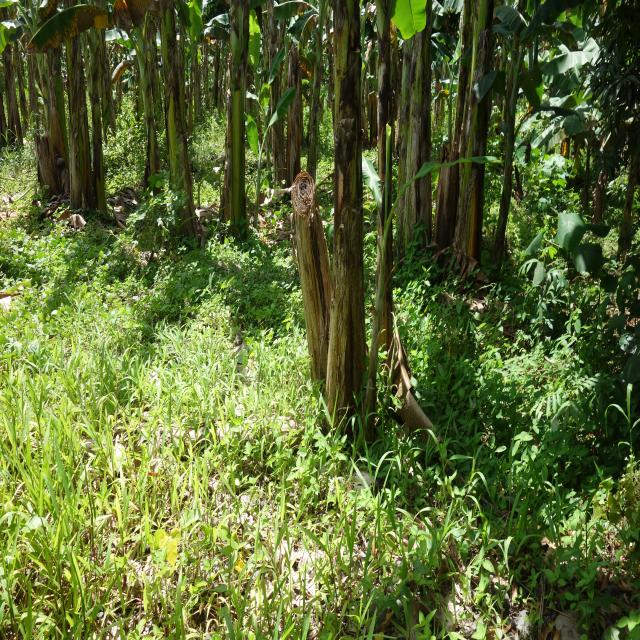Banana-plant: (324, 0, 369, 450), (450, 0, 496, 282), (156, 0, 202, 246), (400, 0, 434, 268), (213, 0, 251, 239), (84, 0, 118, 231), (132, 0, 155, 238), (66, 0, 88, 211)
